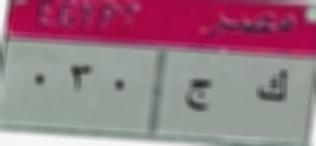0: (23, 66, 50, 96), (105, 76, 133, 98)
3: (66, 55, 95, 97)
jeem: (174, 75, 219, 117)
kaaf: (254, 68, 293, 107)
